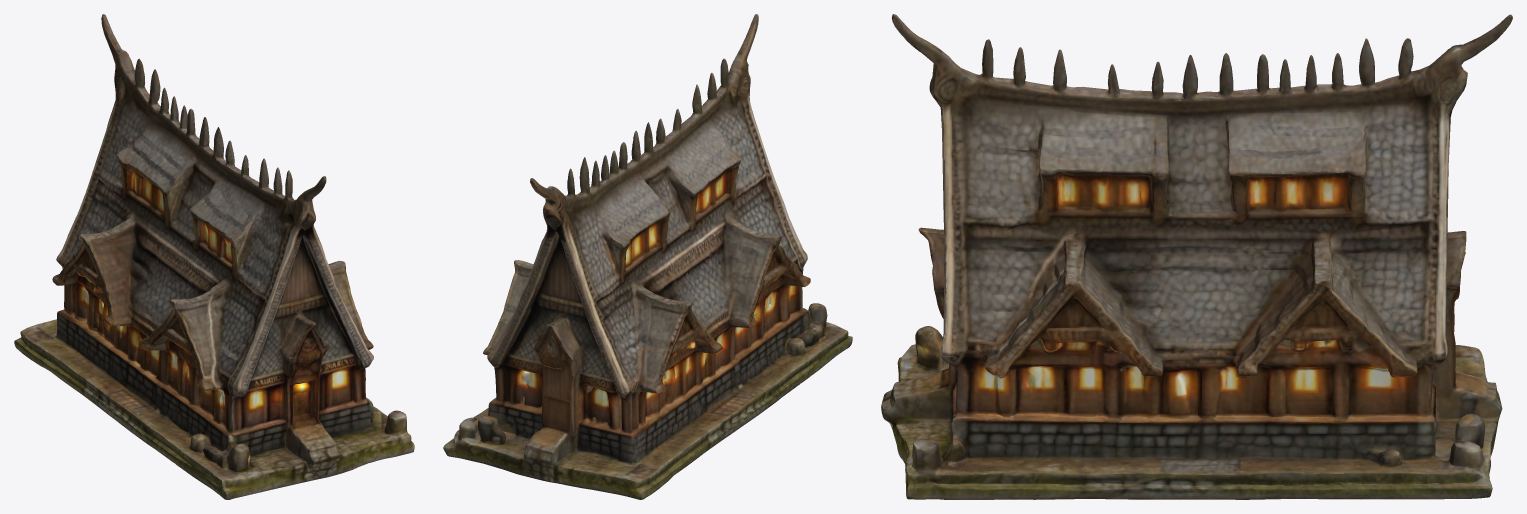
Rendered from town_center__longhouse_norse.glb.
The picture shows the model from 3 angles, left to right: view 1: azimuth 30°, elevation 25°; view 2: azimuth 150°, elevation 25°; view 3: azimuth 270°, elevation 25°; orthographic projection. The views are drawn at different scales.
Bounding box in the file's own units: 1 × 1.48 × 2.01.
1 material, 1 textured.
